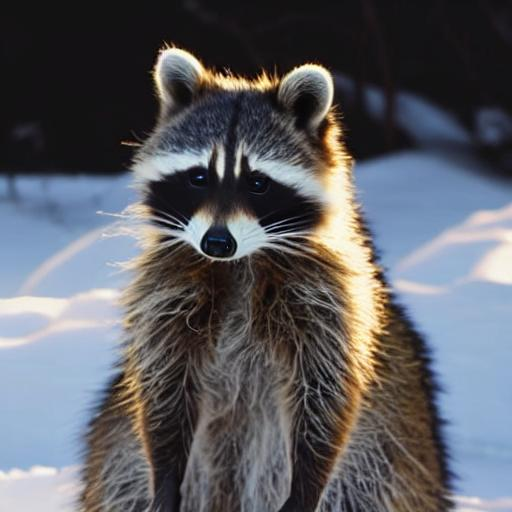raccoon: (80, 41, 468, 512)
